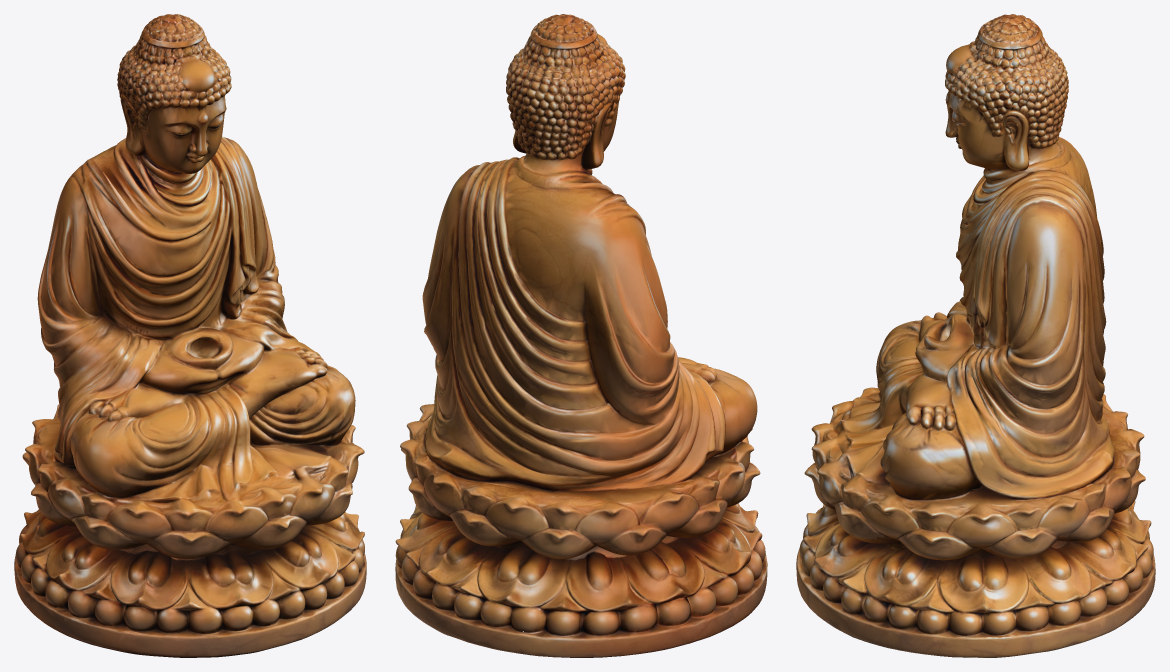
The model's file is buddha_4.glb.
3 renders of one model, left to right at view 1: azimuth 30°, elevation 25°; view 2: azimuth 150°, elevation 25°; view 3: azimuth 270°, elevation 25°, orthographic. The views are drawn at different scales.
Visible parts, largest first — view 1: tripo_node_351cb002-faa7-4a78-ba1c-9d99e8f325e7; view 2: tripo_node_351cb002-faa7-4a78-ba1c-9d99e8f325e7; view 3: tripo_node_351cb002-faa7-4a78-ba1c-9d99e8f325e7.
Boxes of the visible parts, x1,y1,x2,y2 form: tripo_node_351cb002-faa7-4a78-ba1c-9d99e8f325e7: [14, 14, 366, 657]; tripo_node_351cb002-faa7-4a78-ba1c-9d99e8f325e7: [395, 14, 767, 657]; tripo_node_351cb002-faa7-4a78-ba1c-9d99e8f325e7: [796, 14, 1155, 657].
Bounding box in the file's own units: 0.5661 × 0.9802 × 0.5619.
Materials: 1 (1 with a texture image).
